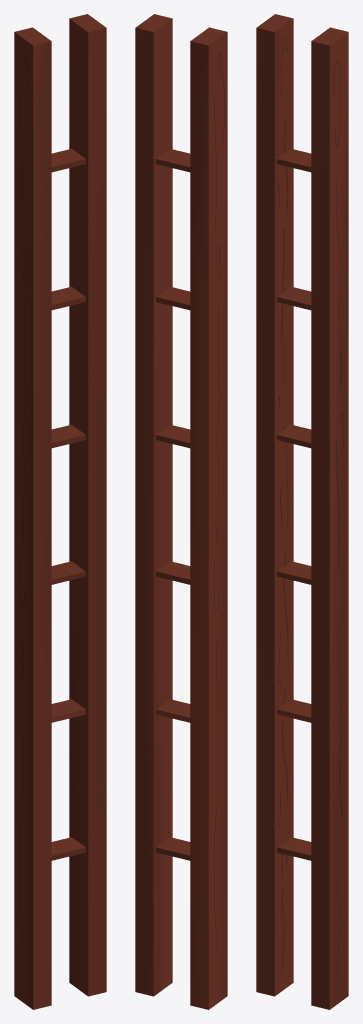
Rendered from pilar_elevador.fbx.
3 renders of one model, left to right at view 1: azimuth 30°, elevation 25°; view 2: azimuth 150°, elevation 25°; view 3: azimuth 330°, elevation 25°, orthographic.
Visible parts, largest first — view 1: Pilar_elevador; view 2: Pilar_elevador; view 3: Pilar_elevador.
Part boxes in pixels (bbox=[...]): Pilar_elevador: bbox=[14, 14, 106, 1009]; Pilar_elevador: bbox=[135, 14, 227, 1009]; Pilar_elevador: bbox=[256, 14, 348, 1009].
Size of the model in its own units: 1074 by 13510 by 478.
